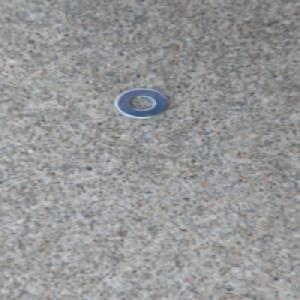Washer: (111, 86, 172, 121)
